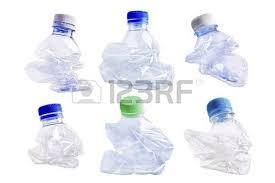Plastic bottle: (179, 96, 259, 177), (98, 5, 170, 92), (99, 95, 173, 177), (27, 8, 92, 97), (185, 15, 254, 89), (24, 101, 86, 173)
